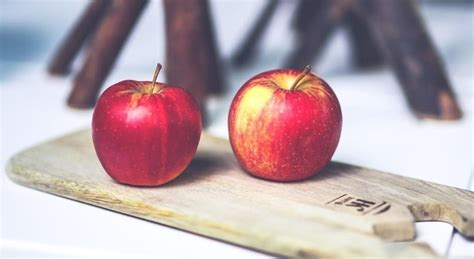apple: (226, 66, 344, 188), (90, 77, 204, 188)
